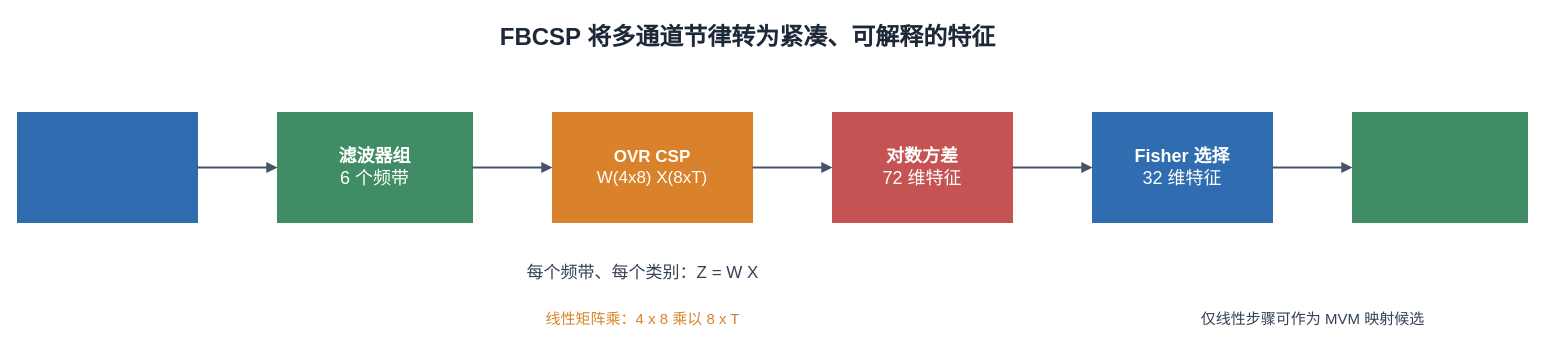
This 1545x351 diagram has some shape labels left out. Each missing label, with the centre of its shape:
EEG 窗口 X：8 x T: the point at 107,167
编码器 / 候选线性头: the point at 1440,167
